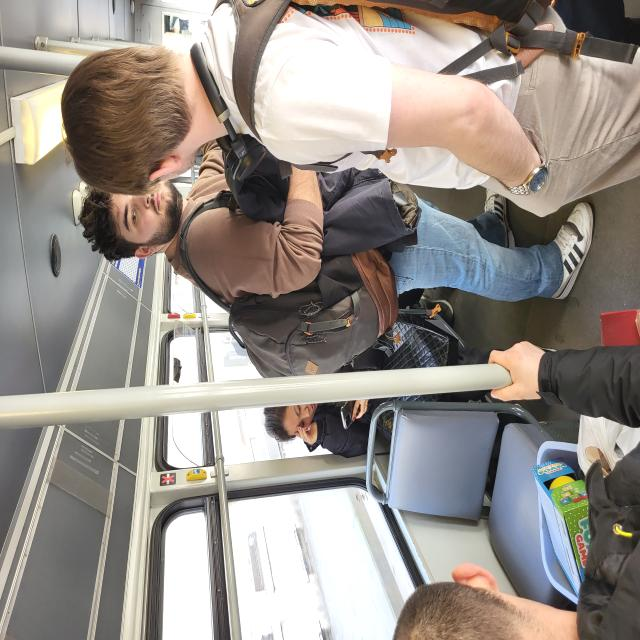asiento-libre: (89, 489, 180, 640)
